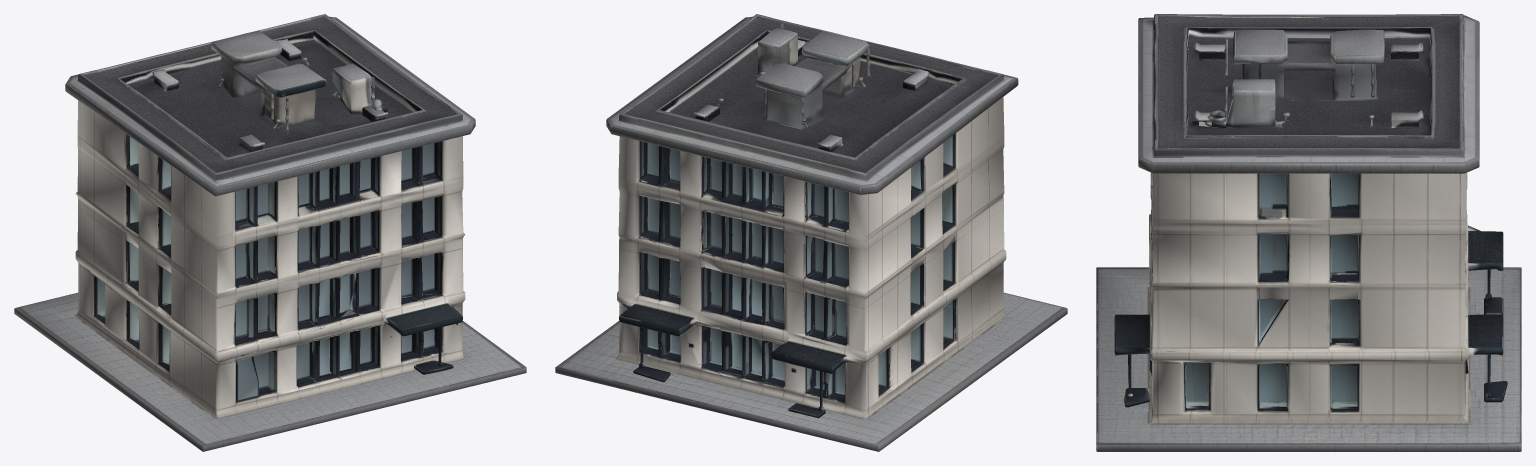
3 views of the same model, side by side, from view 1: azimuth 30°, elevation 25°; view 2: azimuth 150°, elevation 25°; view 3: azimuth 270°, elevation 25° (orthographic). The views are drawn at different scales.
Size of the model in its own units: 1.88 by 1.57 by 1.9.
Materials: 1 (1 with a texture image).
